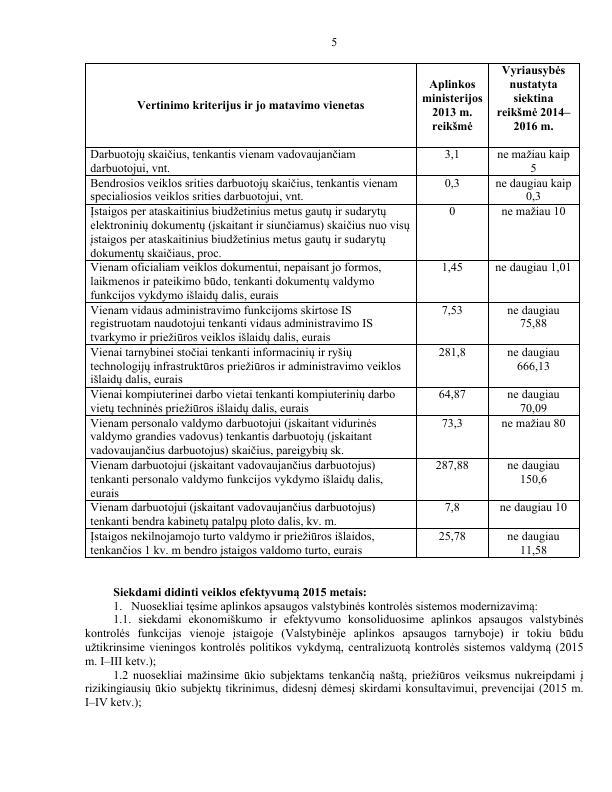table: (83, 60, 580, 560)
text: (82, 585, 590, 713)
